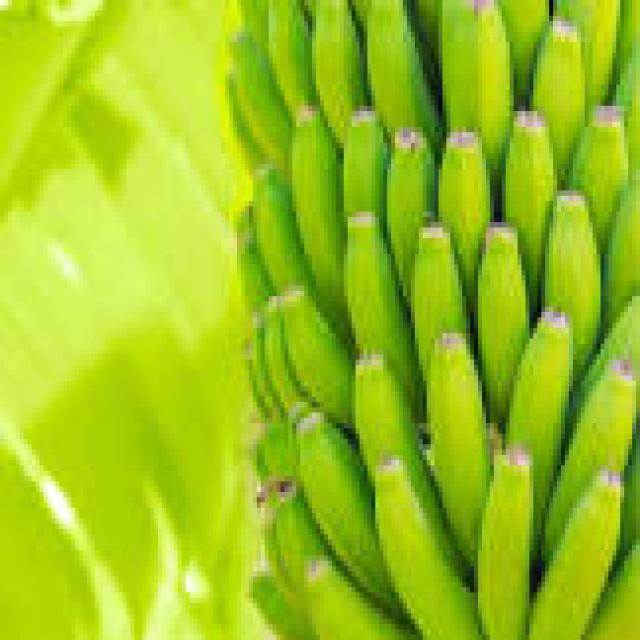banana: (356, 355, 462, 565), (297, 413, 399, 613), (376, 461, 481, 639), (546, 360, 636, 560), (530, 471, 624, 639), (506, 313, 572, 550), (344, 212, 422, 412), (427, 334, 489, 565), (443, 0, 513, 185), (293, 106, 347, 322), (502, 112, 557, 312), (368, 0, 442, 148), (479, 223, 529, 428), (479, 450, 533, 639), (546, 191, 600, 375), (281, 291, 355, 423), (439, 133, 493, 306), (305, 556, 414, 639), (411, 228, 470, 380), (569, 106, 628, 253), (534, 22, 588, 179), (388, 127, 438, 296), (253, 164, 316, 296), (573, 291, 639, 412), (234, 32, 292, 169), (313, 0, 367, 142), (558, 0, 620, 105), (273, 482, 327, 602), (265, 0, 316, 116), (344, 112, 391, 222), (605, 175, 639, 327), (498, 0, 549, 100), (585, 545, 639, 639), (249, 566, 312, 639), (265, 297, 304, 412), (226, 69, 264, 174), (249, 313, 284, 417), (238, 212, 272, 312), (257, 418, 300, 486), (617, 43, 639, 174), (621, 434, 639, 550), (415, 0, 442, 63), (617, 0, 639, 74), (241, 0, 268, 47), (352, 0, 371, 26)
